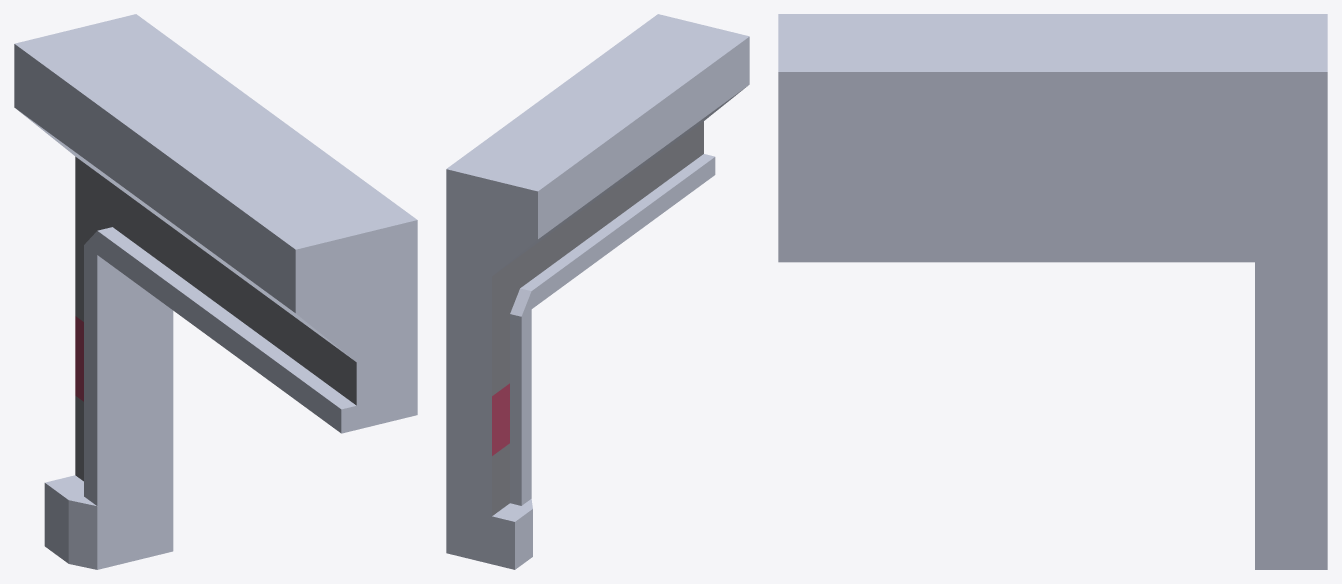
The picture shows the model from 3 angles, left to right: view 1: azimuth 30°, elevation 25°; view 2: azimuth 150°, elevation 25°; view 3: azimuth 270°, elevation 25°; orthographic projection. The views are drawn at different scales.
Parts seen in each view (by area): view 1: object_041; view 2: object_041; view 3: object_041.
Part boxes in pixels (x1,y1,x2,y2): object_041: (14,14,417,569); object_041: (446,14,749,569); object_041: (778,14,1327,569).
Bounding box in the file's own units: 2.5 × 10 × 10.
